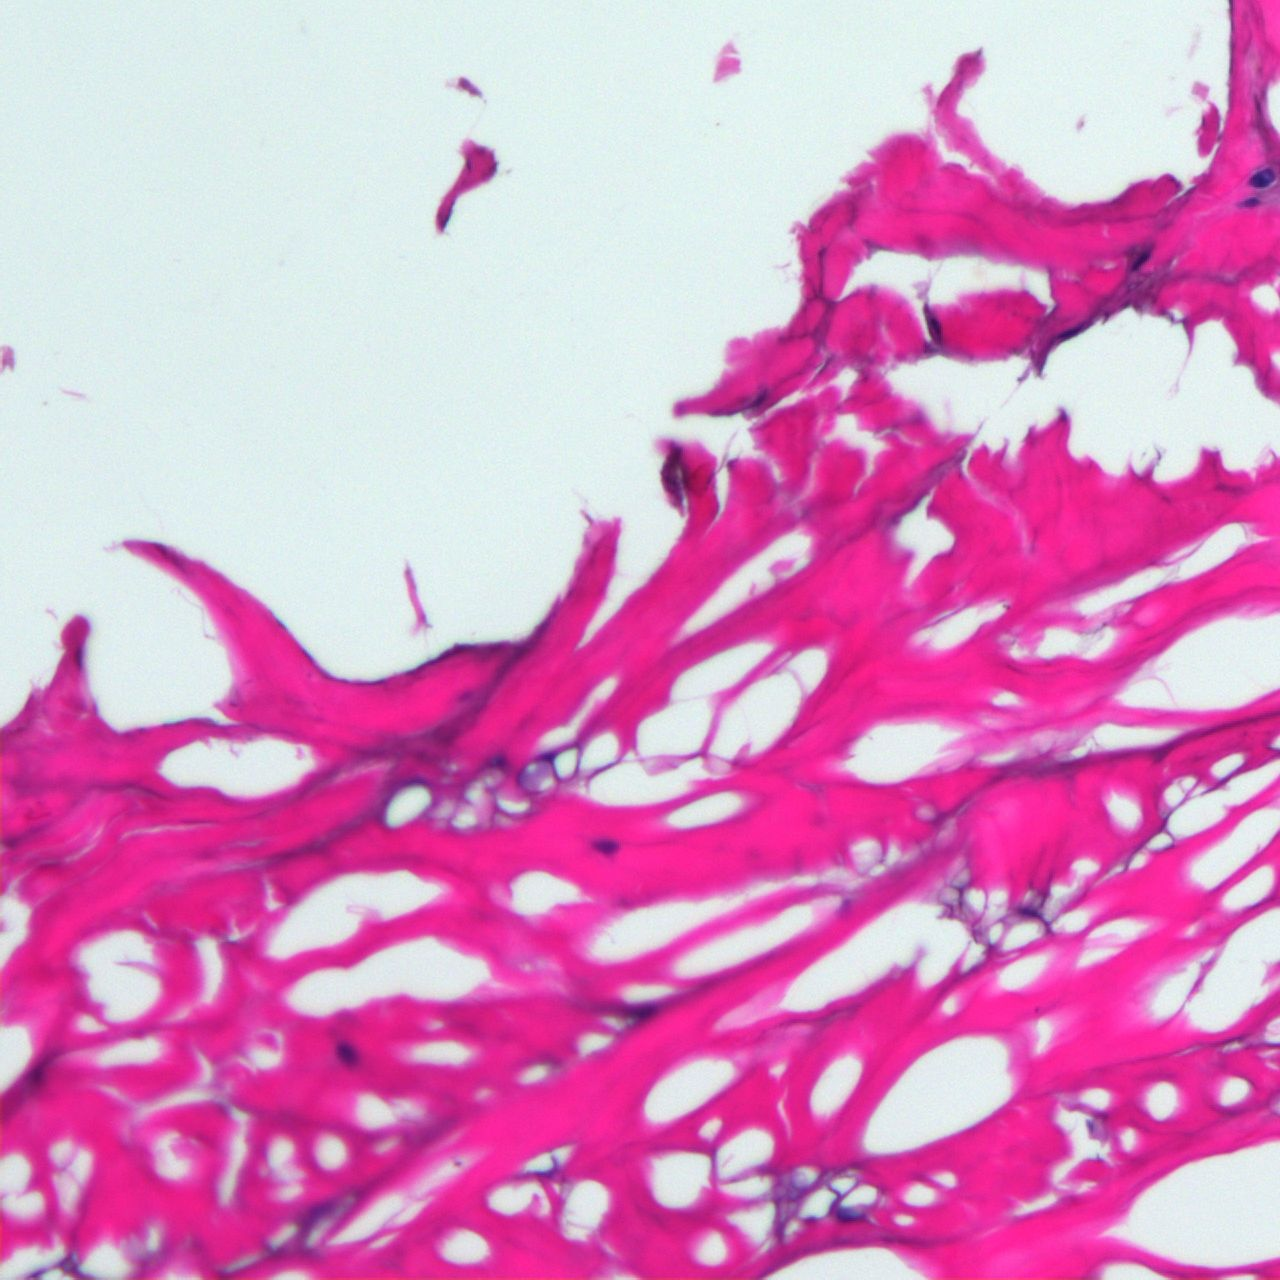nucleus-HE: (1247, 164, 1276, 192), (335, 1040, 358, 1065), (595, 837, 620, 855)
